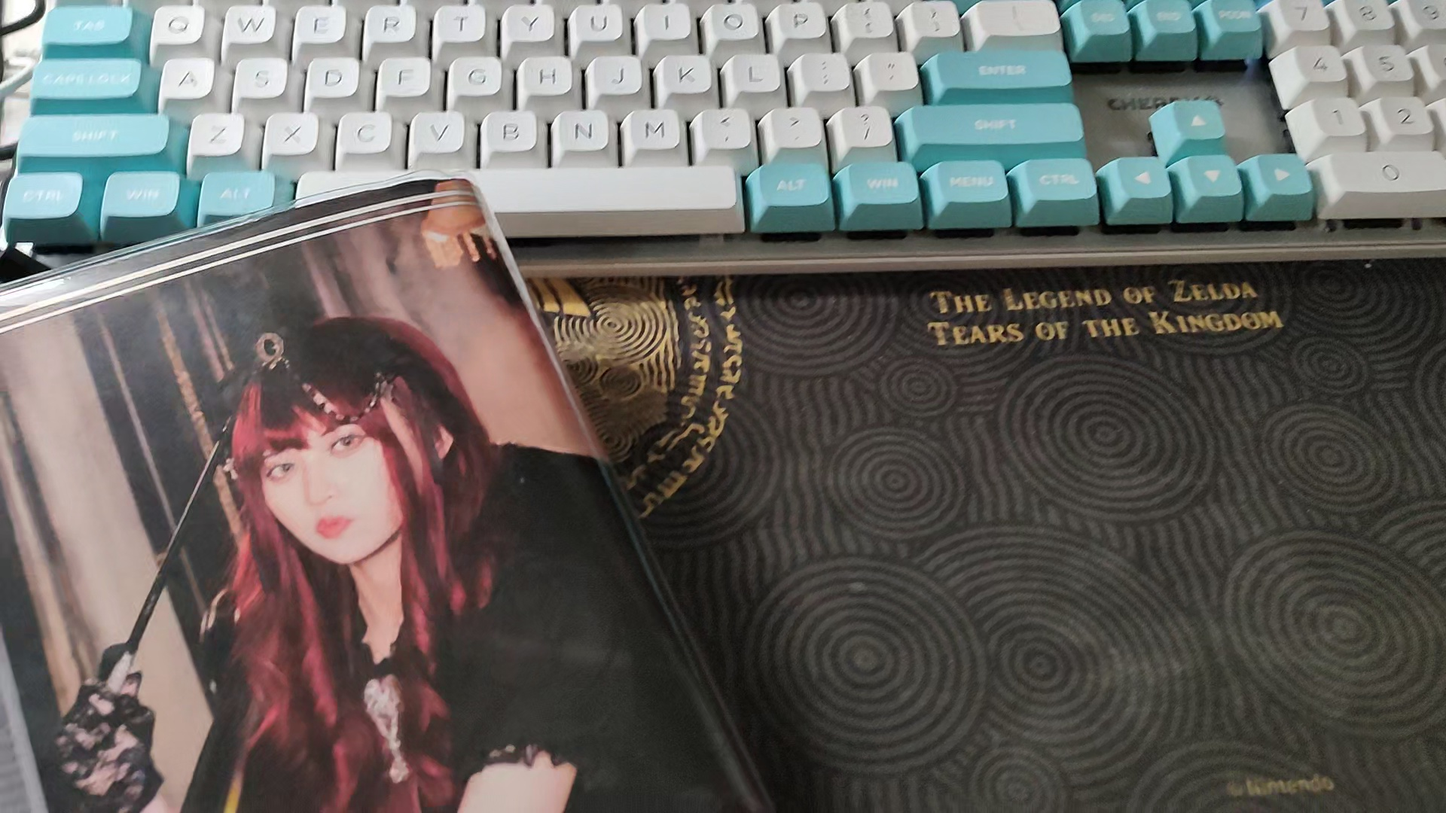Photo_book: (0, 165, 784, 813)
